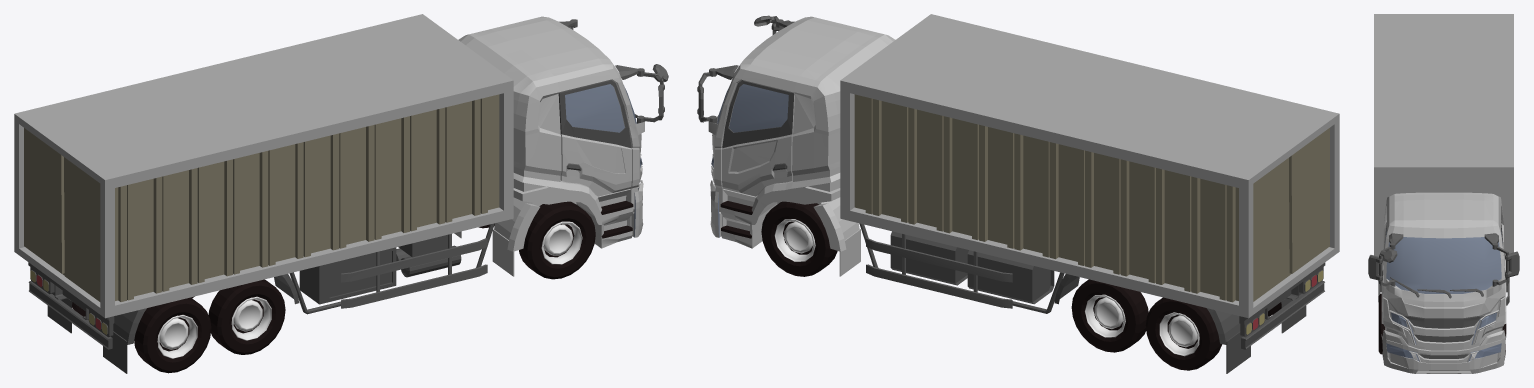
The model's file is TRUCK.glb.
3 views of the same model, side by side, from view 1: azimuth 30°, elevation 25°; view 2: azimuth 150°, elevation 25°; view 3: azimuth 270°, elevation 25° (orthographic). The views are drawn at different scales.
Parts seen in each view (by area): view 1: 车身, body; view 2: 车身, body; view 3: 车身, body.
Boxes of the visible parts, left/top/right/bottom form: 车身: left=14, top=14, right=668, bottom=373; body: left=454, top=16, right=644, bottom=276; 车身: left=697, top=14, right=1339, bottom=373; body: left=708, top=16, right=895, bottom=276; 车身: left=1368, top=14, right=1519, bottom=361; body: left=1381, top=192, right=1506, bottom=373.
Bounding box in the file's own units: 9.24 × 3.29 × 2.74.
